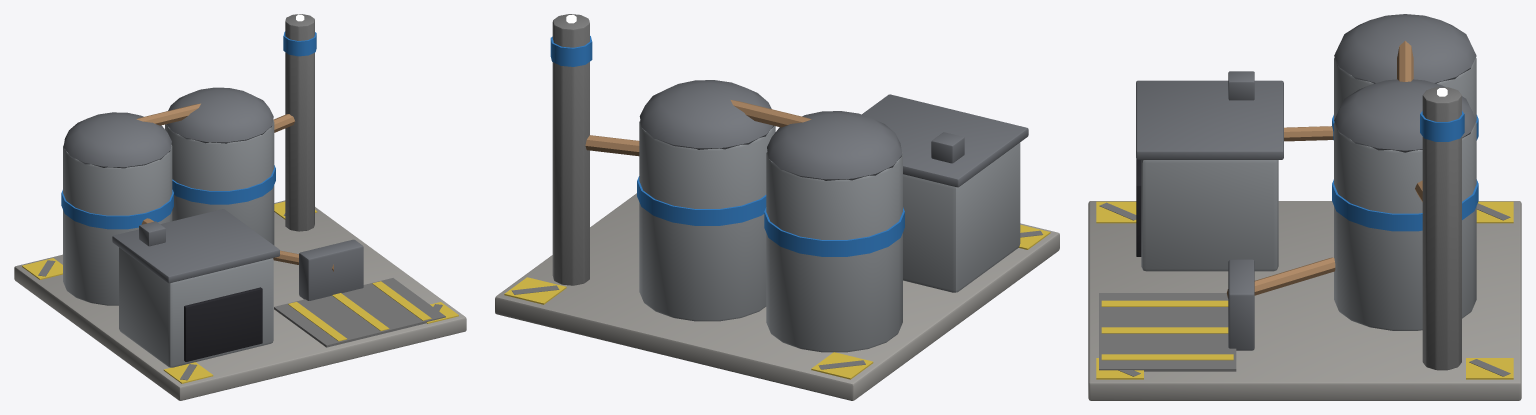
File: bld_refinery.glb
3 views of the same model, side by side, from view 1: azimuth 30°, elevation 25°; view 2: azimuth 150°, elevation 25°; view 3: azimuth 270°, elevation 25° (orthographic). The views are drawn at different scales.
Visible parts, largest first — view 1: structure, foundation, shell, fittings; view 2: structure, foundation, shell, fittings; view 3: foundation, structure, shell, fittings.
Boxes of the visible parts, left/top/right/bottom form: structure: left=63, top=14, right=314, bottom=367; foundation: left=14, top=200, right=466, bottom=400; shell: left=61, top=31, right=316, bottom=361; fittings: left=136, top=14, right=363, bottom=300; structure: left=552, top=14, right=1020, bottom=352; foundation: left=495, top=193, right=1059, bottom=400; shell: left=550, top=36, right=1028, bottom=256; fittings: left=566, top=15, right=964, bottom=163; foundation: left=1088, top=201, right=1521, bottom=400; structure: left=1141, top=57, right=1476, bottom=370; shell: left=1136, top=14, right=1478, bottom=256; fittings: left=1227, top=41, right=1447, bottom=350.
Bounding box in the file's own units: 8.2 × 6.1 × 8.2.
